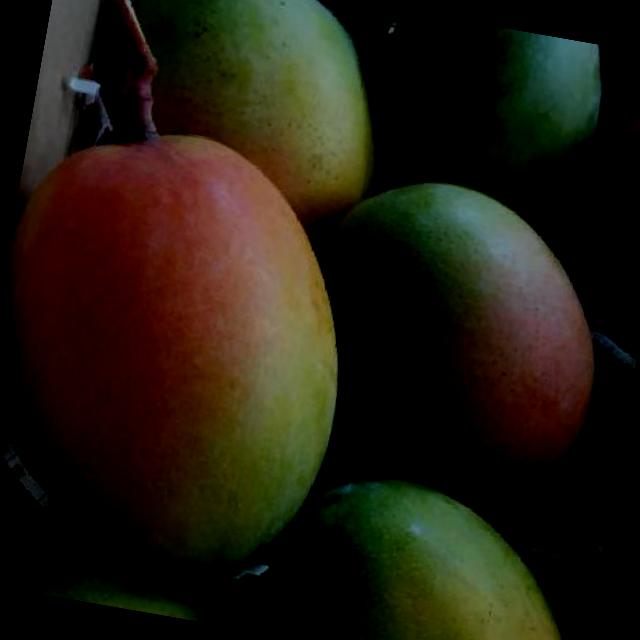Mango: (0, 105, 377, 600), (280, 163, 624, 529), (74, 0, 407, 272), (245, 452, 605, 640), (356, 8, 613, 250)
